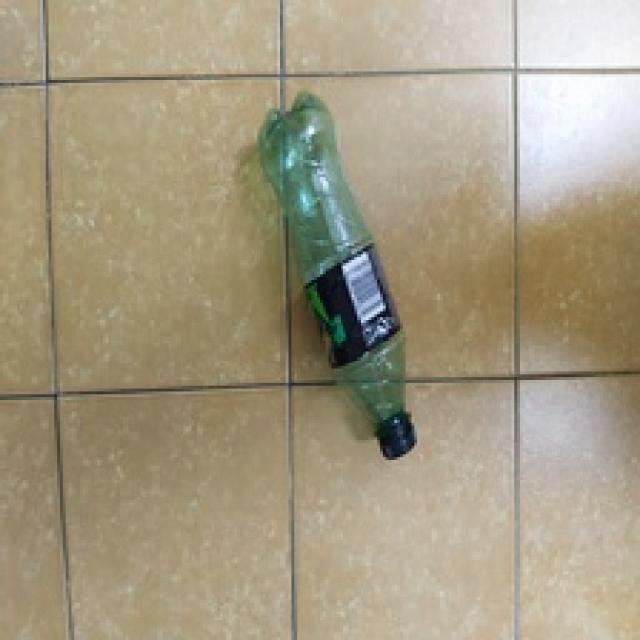bottle: (258, 89, 419, 460)
